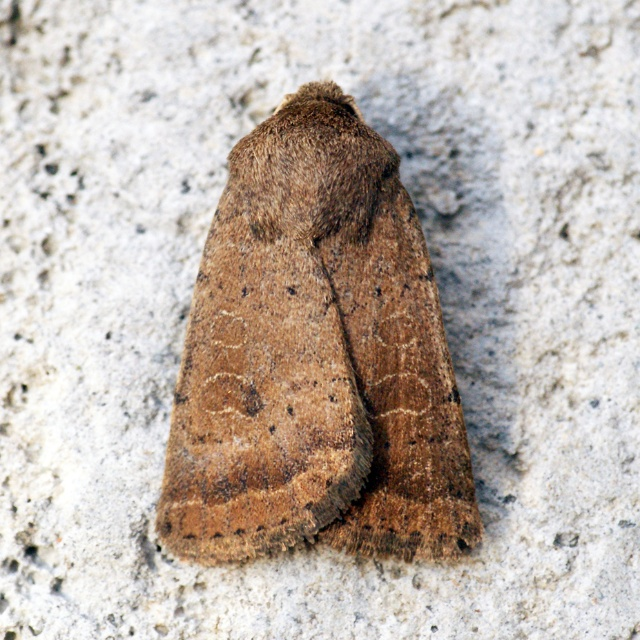Moths and butterflies: (154, 78, 485, 569)
